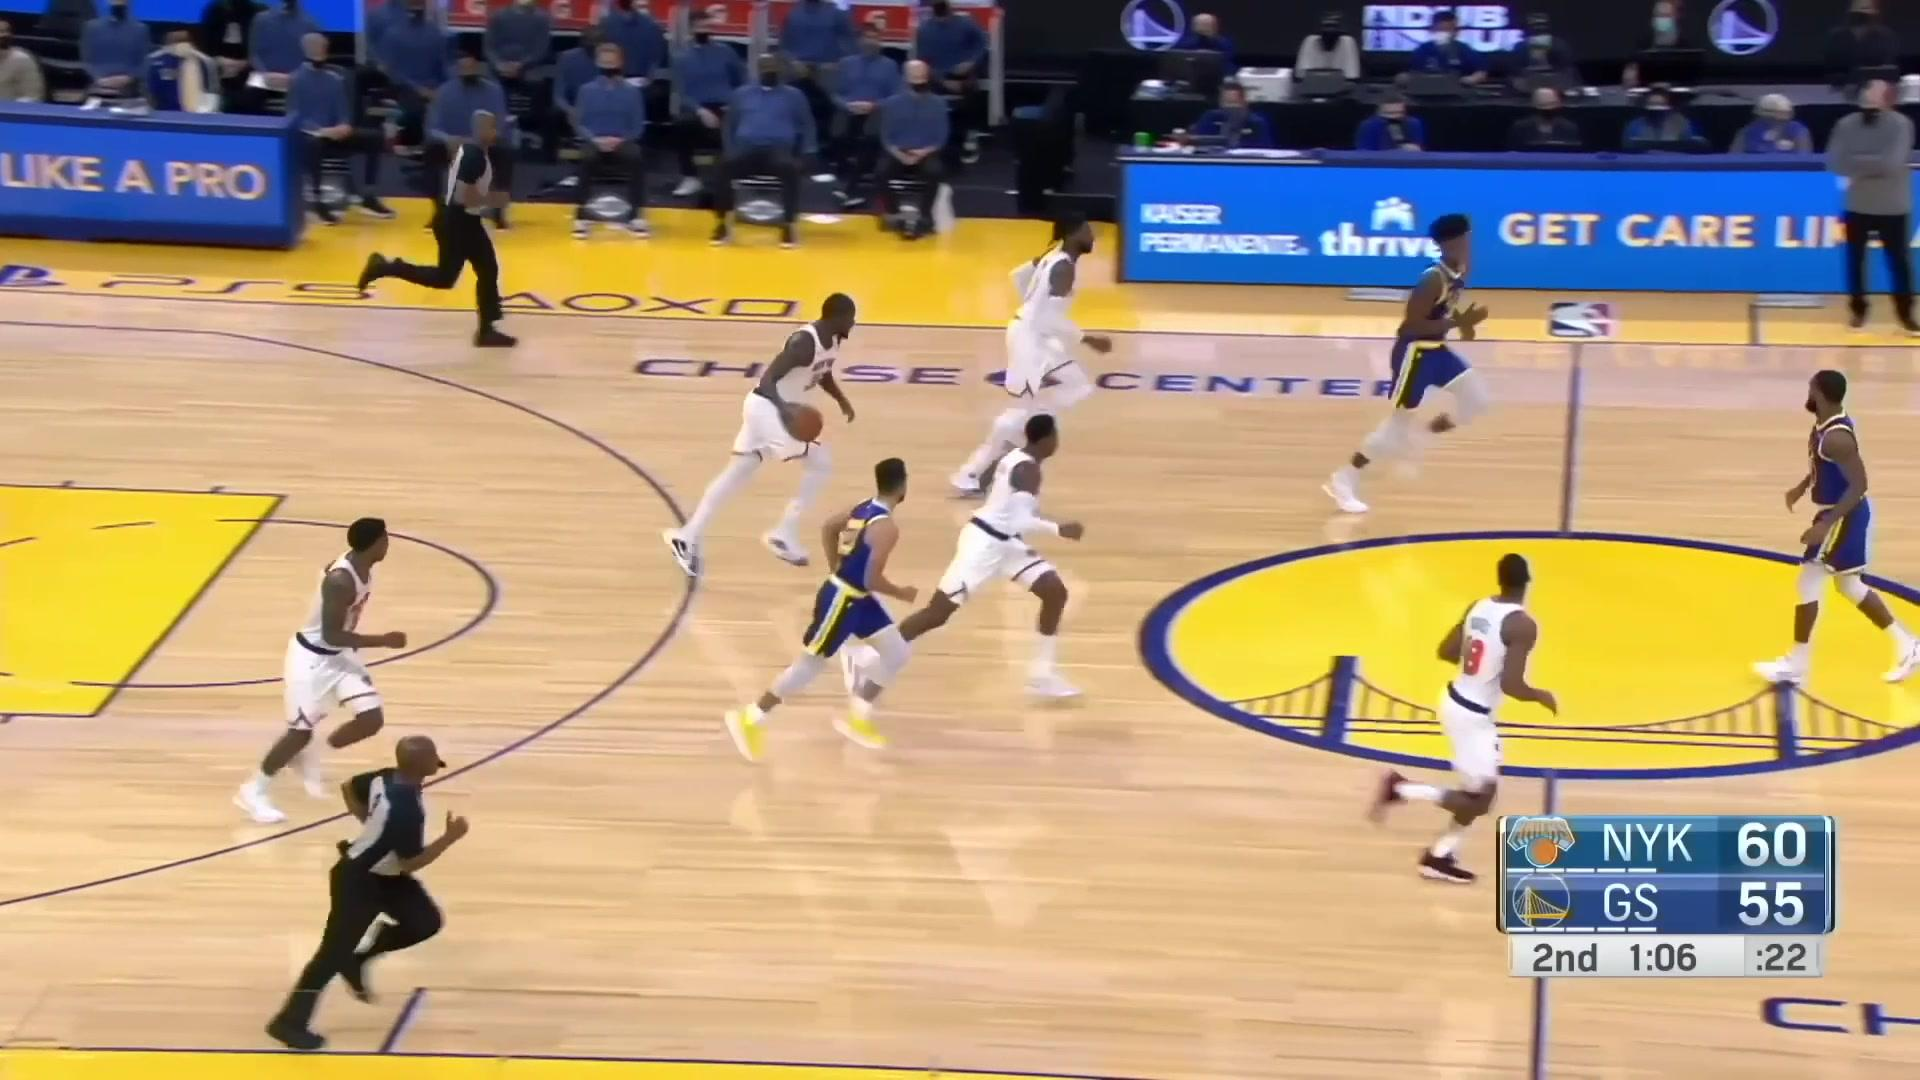no_foul: (675, 281, 899, 599)
